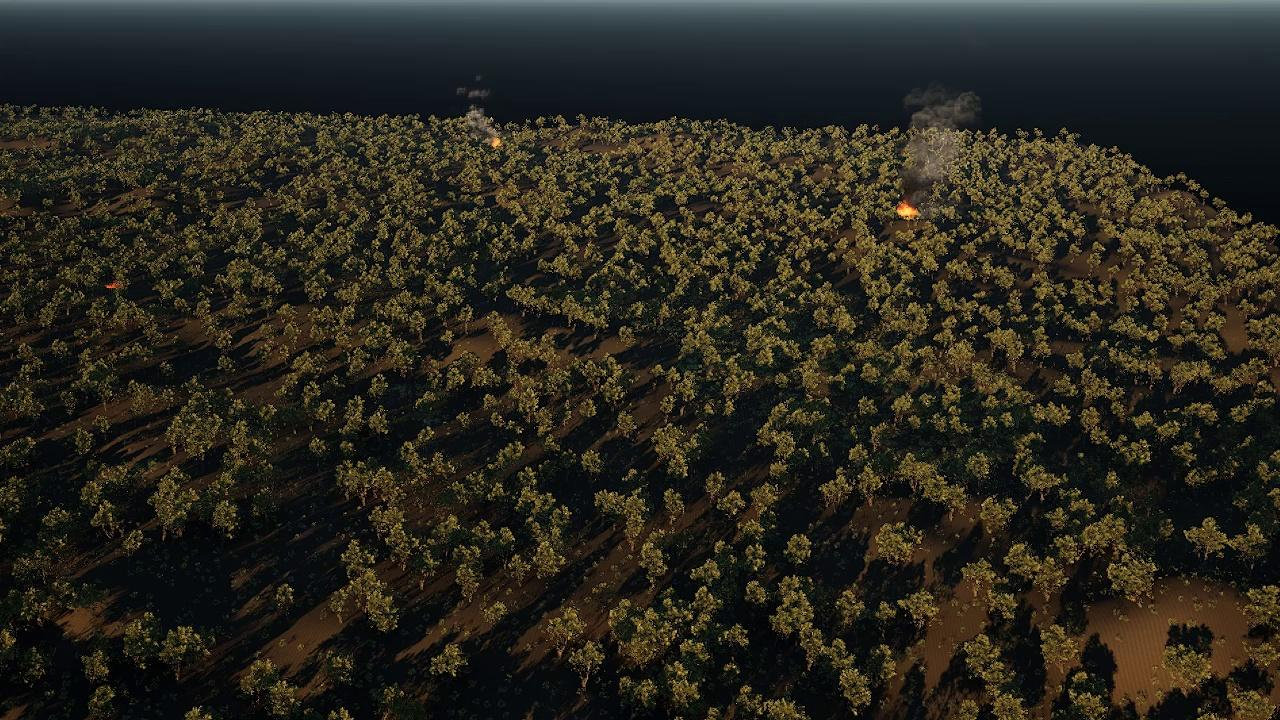fire: (899, 203, 919, 217), (105, 280, 121, 289), (492, 138, 501, 150)
smoke: (900, 81, 981, 217), (456, 74, 500, 139)
